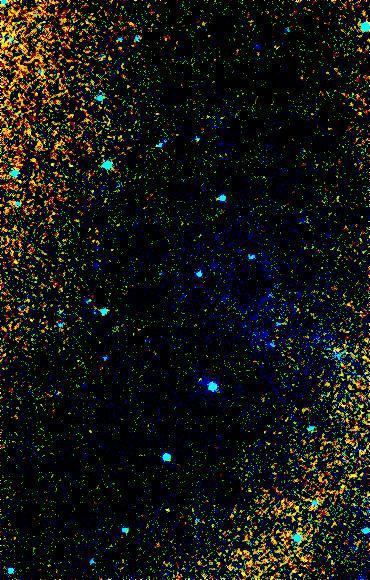star: (157, 493, 187, 523)
